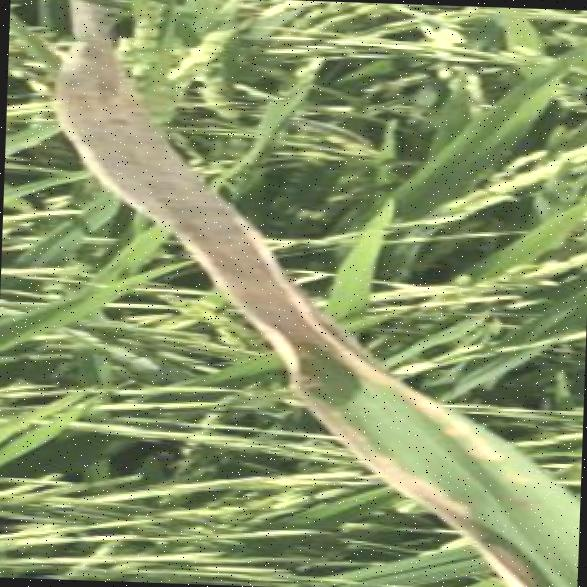Bacteria_Leaf_Blight: (273, 314, 566, 587)
